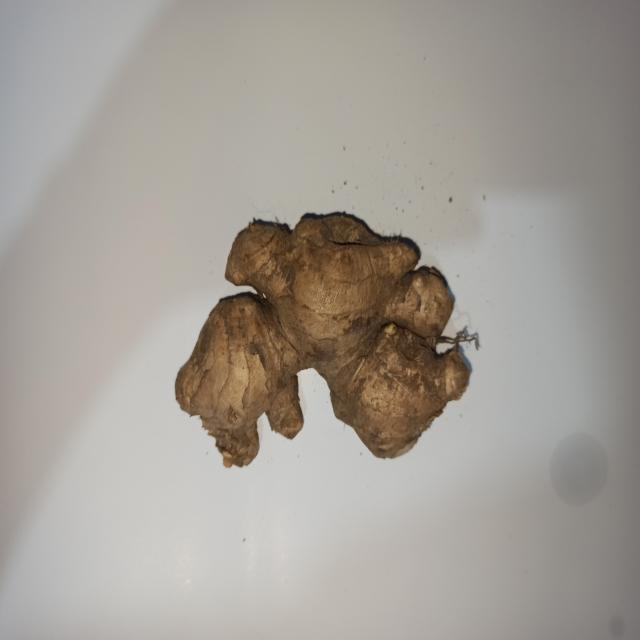ginger: (182, 213, 472, 467)
